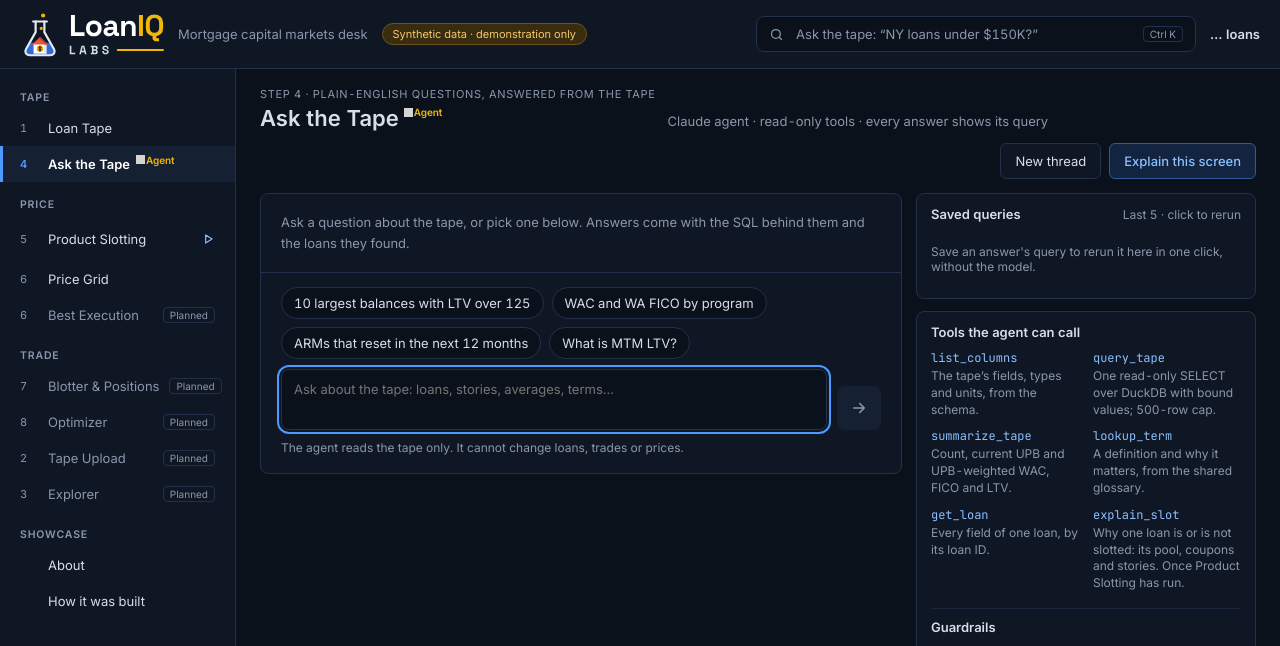
Scenario: Ask the Tape › shows the SQL a tool chip ran, and hides it again
The width and height of the screenshot is (1280, 646).
In the text box named "Ask the tape": (554, 399) [281,369,827,430], type "Loans over 125 LTV?"
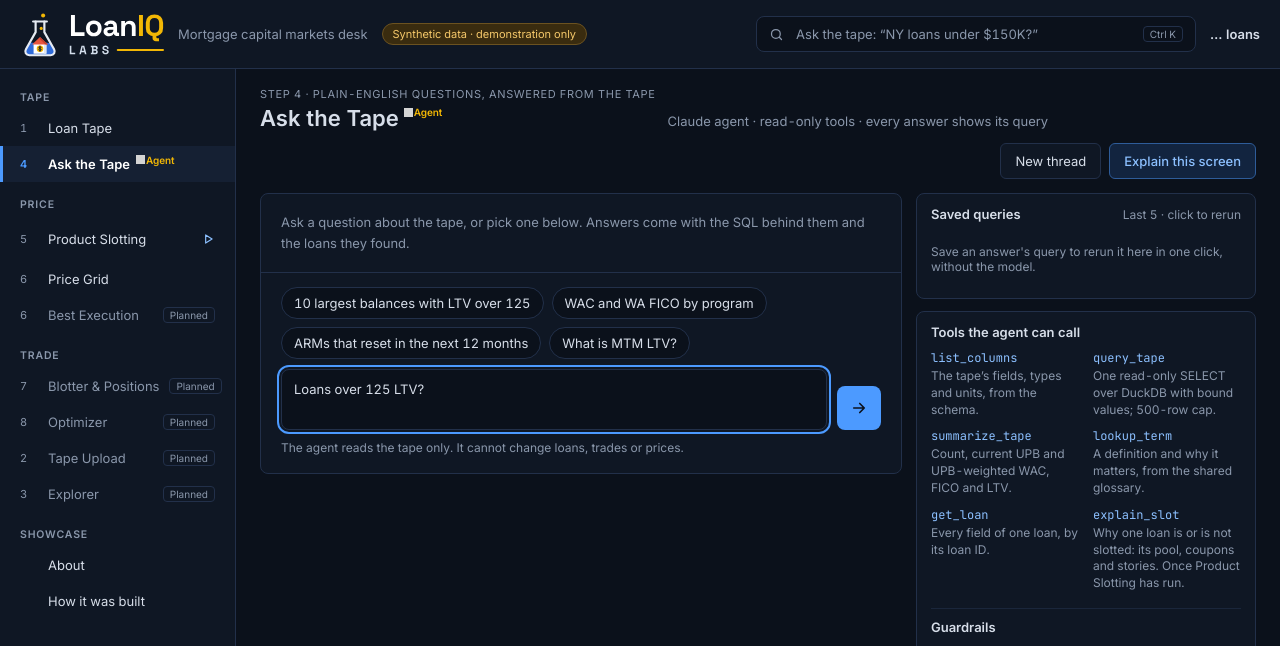
Click the button named "Send question": (859, 408) [837,386,881,430]
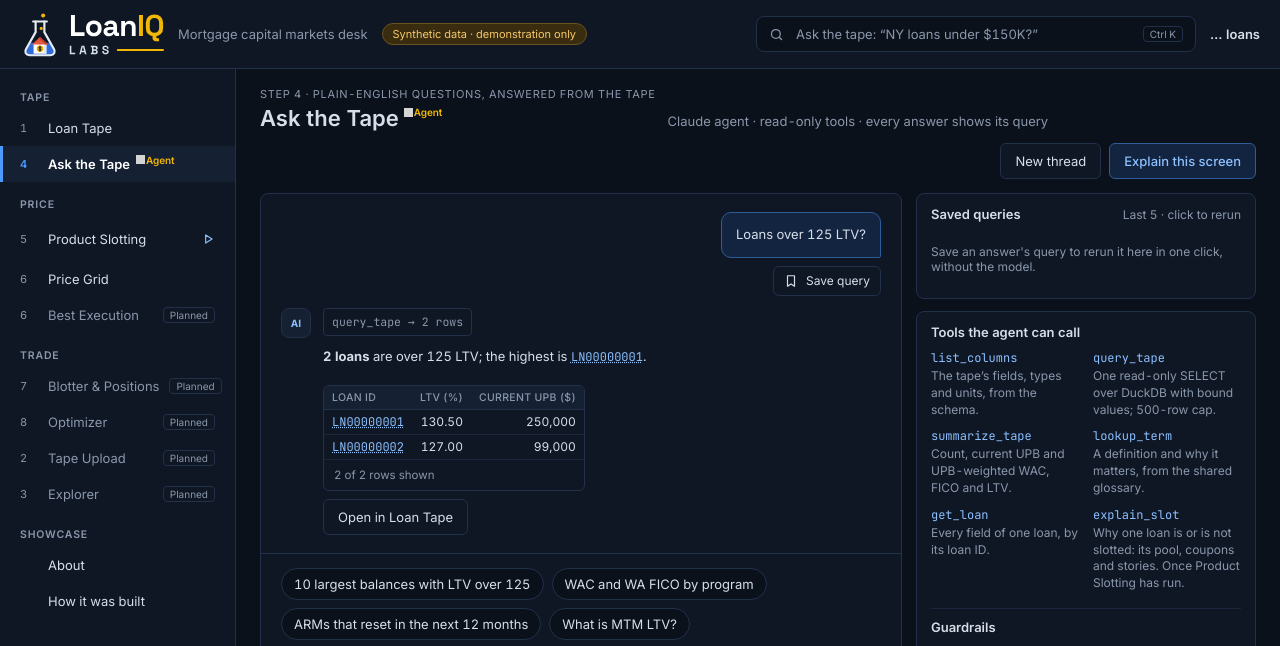
Click the button "query_tape → 2 rows": (398, 322) [323,308,472,336]
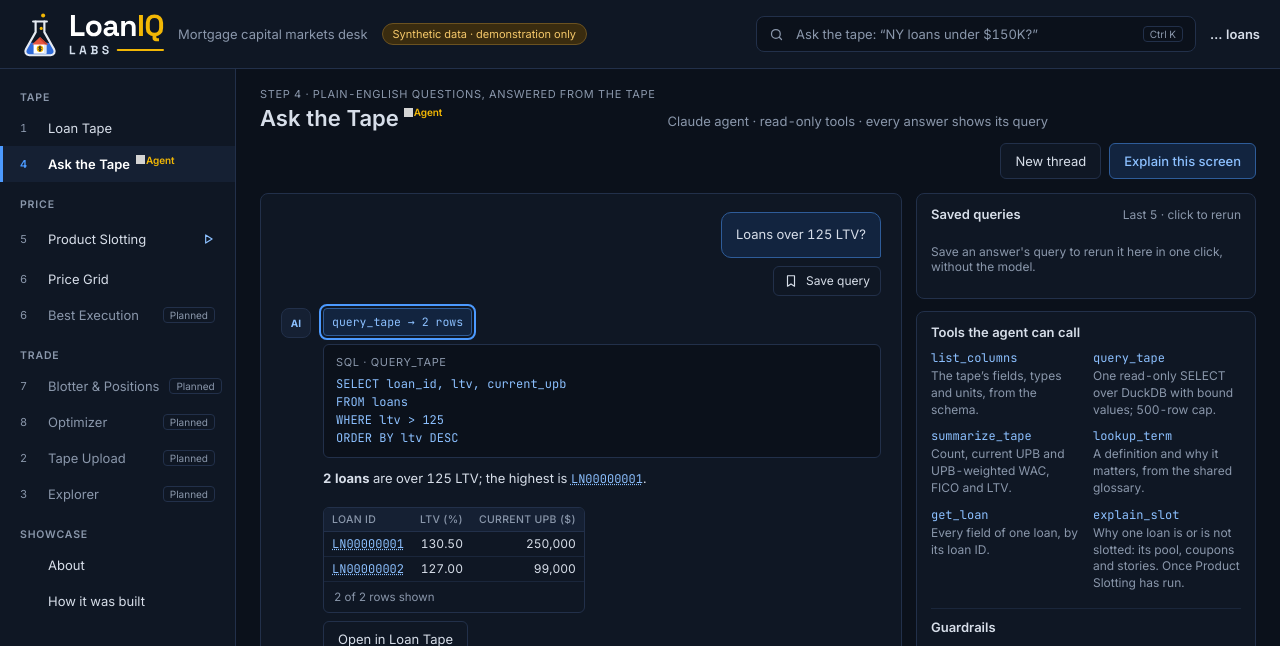
Expected: the button "query_tape → 2 rows" is expanded
Expected: the element with test id "tool-detail" shows "WHERE ltv > 125", [336,376,566,446]
Click the button "query_tape → 2 rows": (398, 322) [323,308,472,336]
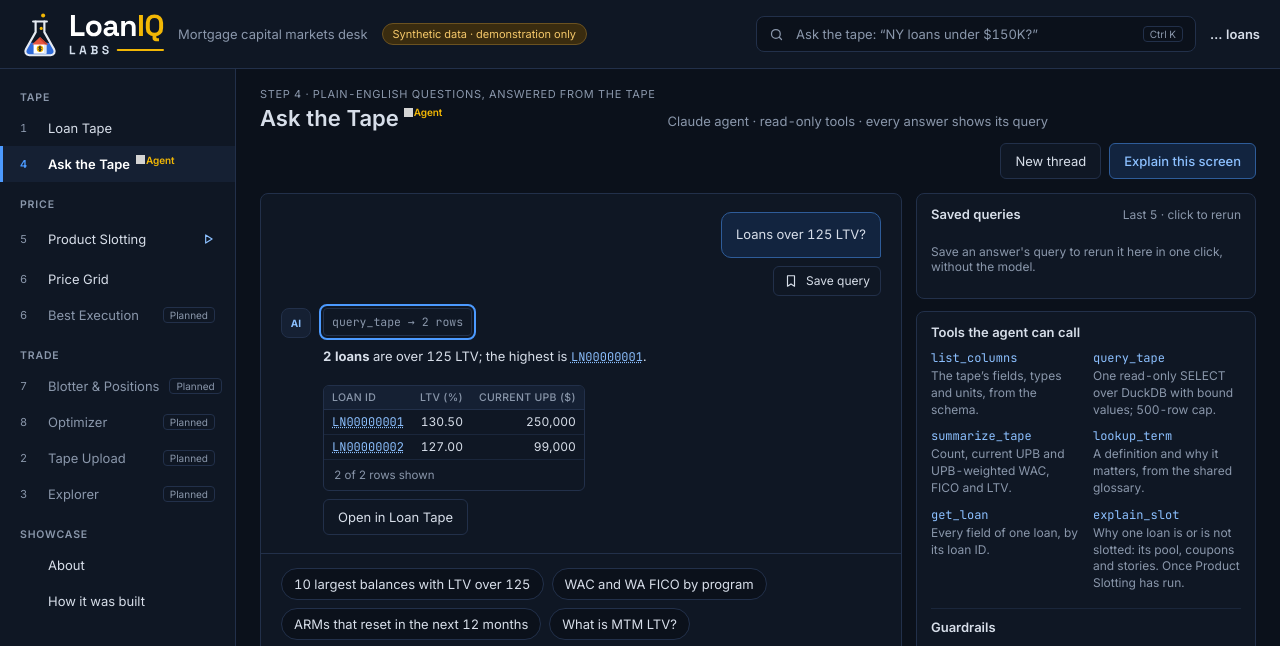
Expected: the element with test id "tool-detail" is gone
